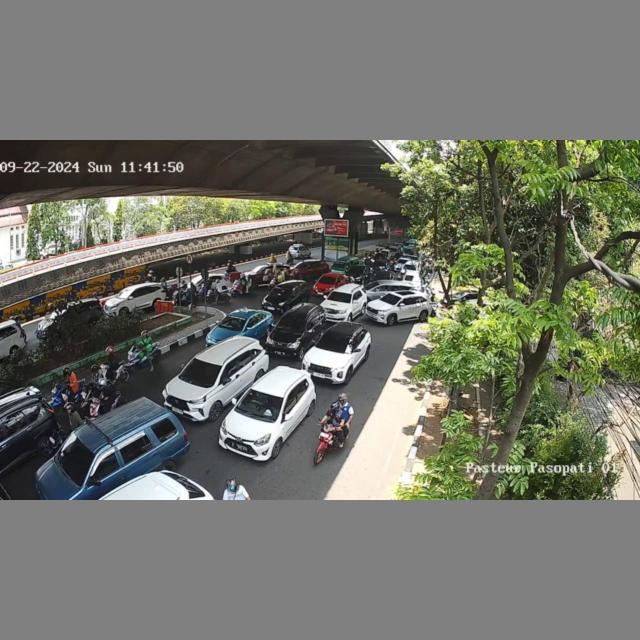windshield: (233, 387, 284, 422), (55, 434, 91, 483), (177, 358, 223, 386), (316, 332, 355, 352), (276, 312, 307, 333), (219, 314, 246, 330), (328, 291, 353, 303), (378, 292, 400, 305), (269, 287, 292, 297), (317, 276, 337, 286)
